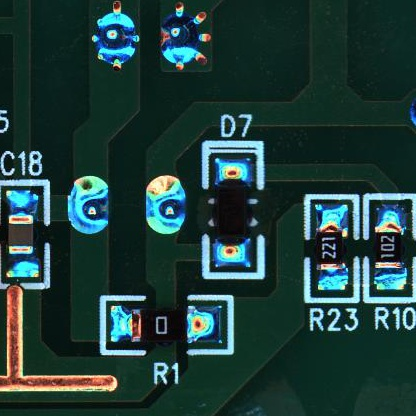spot: (91, 2, 141, 73), (159, 1, 209, 72), (142, 176, 186, 236), (68, 175, 110, 235)
